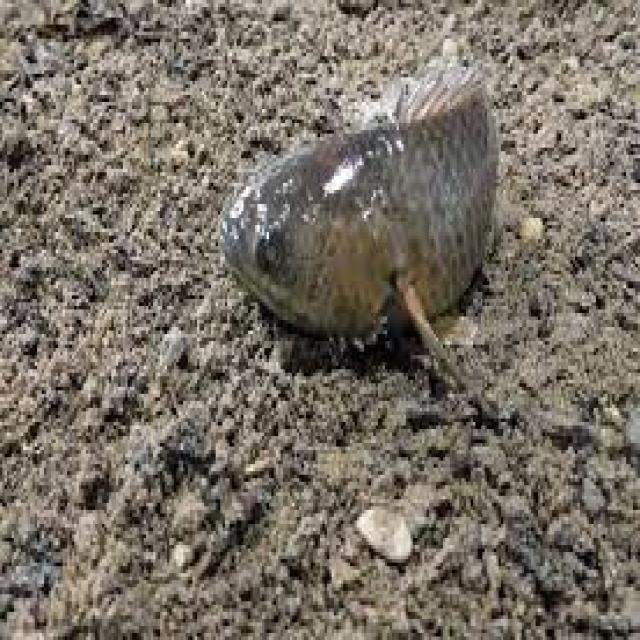Climbing-Perch: (187, 35, 584, 417)
